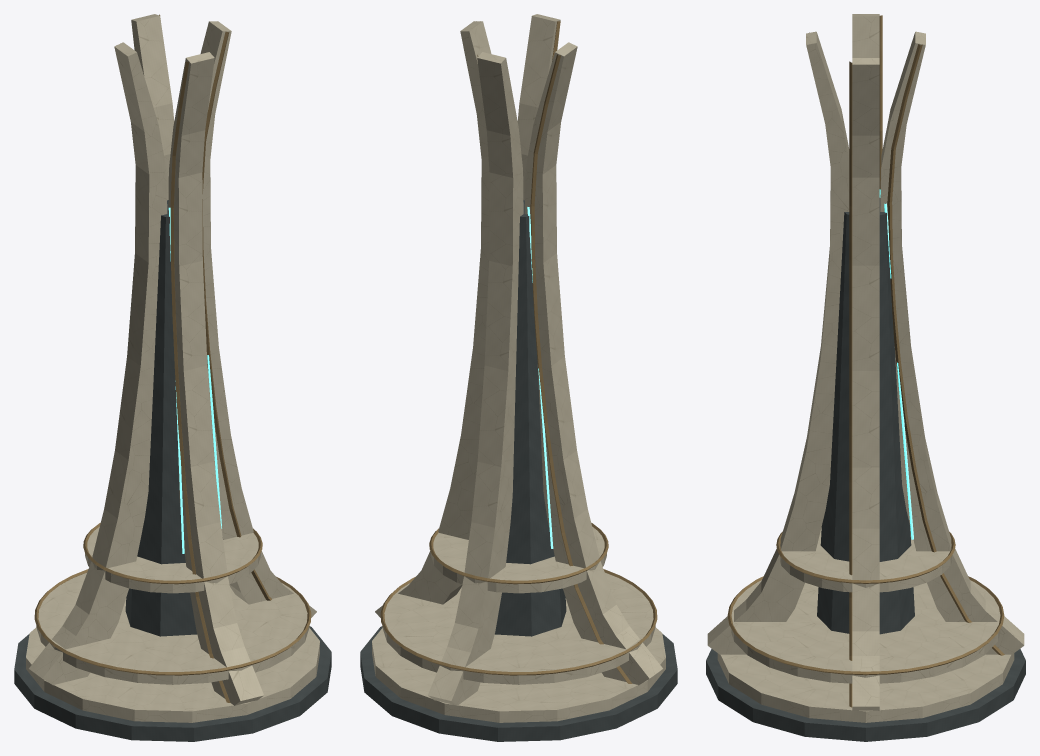
Rendered from crest-tower.glb.
3 renders of one model, left to right at view 1: azimuth 30°, elevation 25°; view 2: azimuth 150°, elevation 25°; view 3: azimuth 270°, elevation 25°, orthographic.
Parts seen in each view (by area): view 1: ceramic, basalt, bronze, ACTIVE_CYAN; view 2: ceramic, basalt, bronze, ACTIVE_CYAN; view 3: ceramic, basalt, bronze, ACTIVE_CYAN.
Boxes of the visible parts, left/top/right/bottom form: ceramic: left=26, top=14, right=319, bottom=722; basalt: left=14, top=200, right=331, bottom=741; bronze: left=34, top=14, right=311, bottom=702; ACTIVE_CYAN: left=168, top=207, right=221, bottom=553; ceramic: left=372, top=14, right=665, bottom=722; basalt: left=360, top=200, right=677, bottom=741; bronze: left=380, top=21, right=657, bottom=683; ACTIVE_CYAN: left=527, top=207, right=553, bottom=548; ceramic: left=707, top=14, right=1024, bottom=722; basalt: left=706, top=198, right=1025, bottom=741; bronze: left=727, top=15, right=1004, bottom=707; ACTIVE_CYAN: left=879, top=189, right=913, bottom=539.
Bounding box in the file's own units: 16.4 × 36.06 × 16.4.
Materials: 4 (3 with a texture image).
